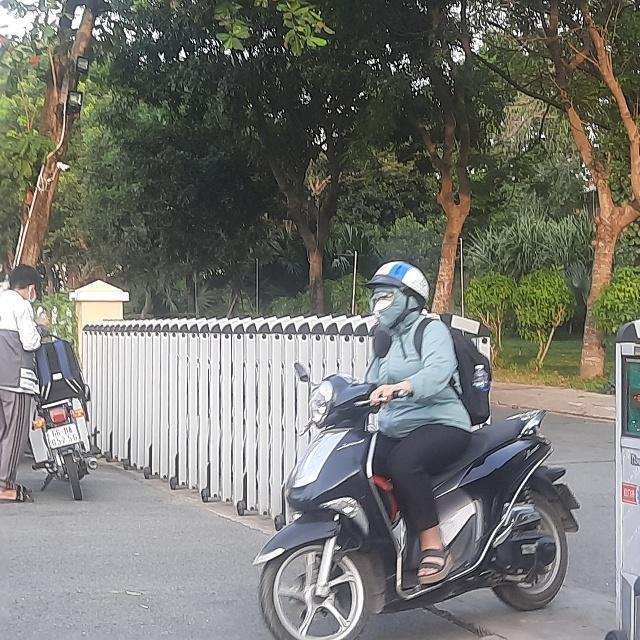Helmet: (363, 260, 432, 328)
